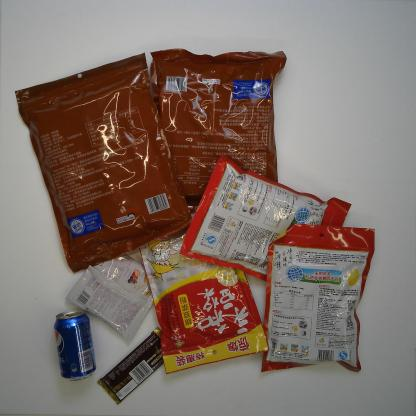Chocolate: (97, 326, 173, 405)
Dried Food: (13, 52, 194, 276), (150, 47, 288, 216)
Drink: (53, 309, 98, 382)
Instant Drink: (178, 153, 352, 287), (139, 207, 270, 376), (259, 222, 376, 374), (64, 252, 165, 343)
